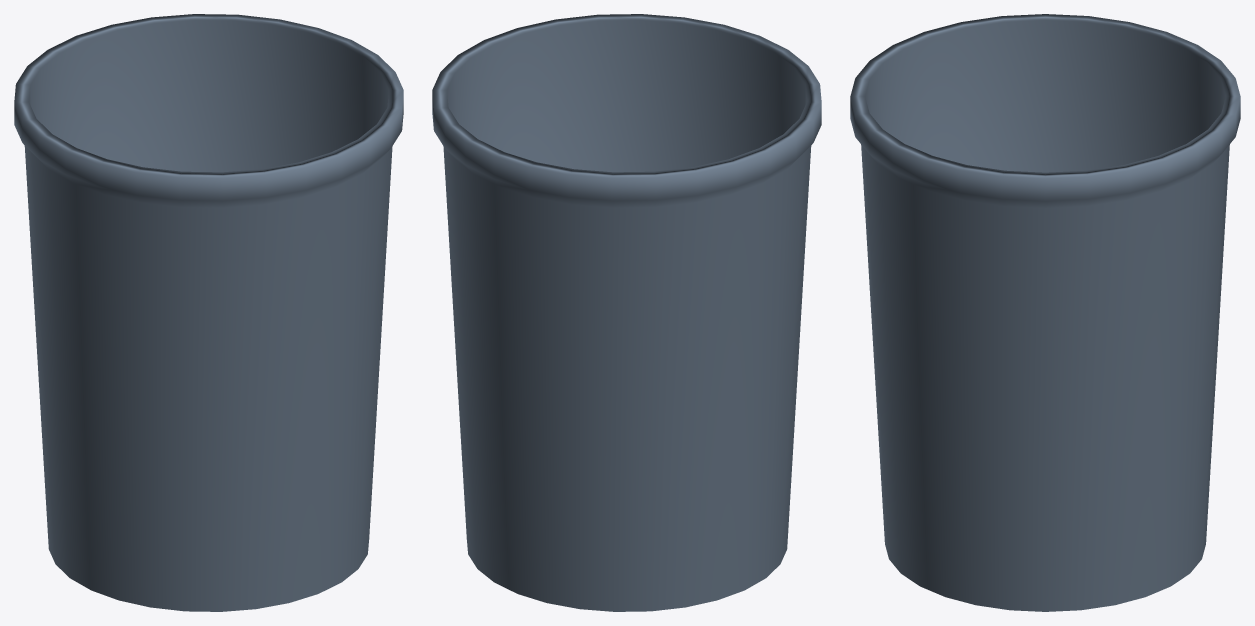
The model's file is trash_bin.glb.
The picture shows the model from 3 angles, left to right: view 1: azimuth 30°, elevation 25°; view 2: azimuth 150°, elevation 25°; view 3: azimuth 270°, elevation 25°; orthographic projection.
Parts seen in each view (by area): view 1: TrashBin; view 2: TrashBin; view 3: TrashBin.
Boxes of the visible parts, box(x1,y1,x2,y2) form: TrashBin: box(14, 14, 403, 611); TrashBin: box(432, 14, 821, 611); TrashBin: box(850, 14, 1240, 611).
Size of the model in its own units: 0.316 by 0.4 by 0.316.
